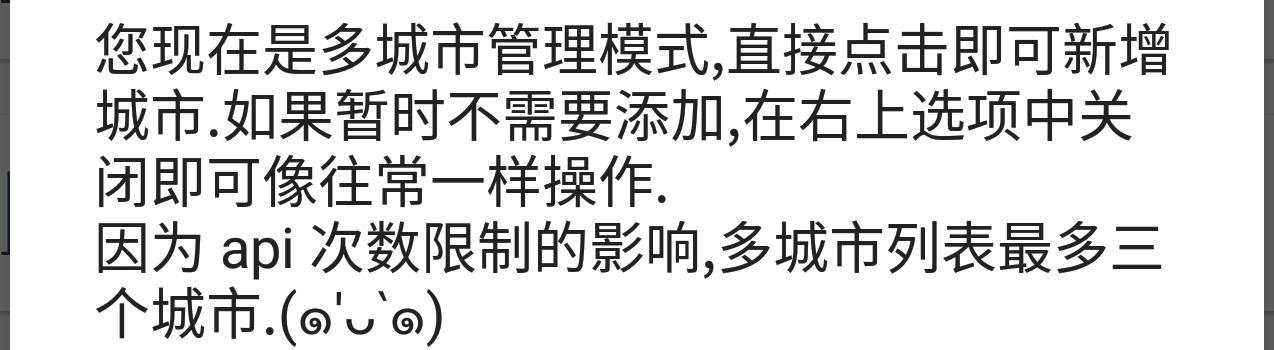TextView: (1, 1, 1273, 349)
